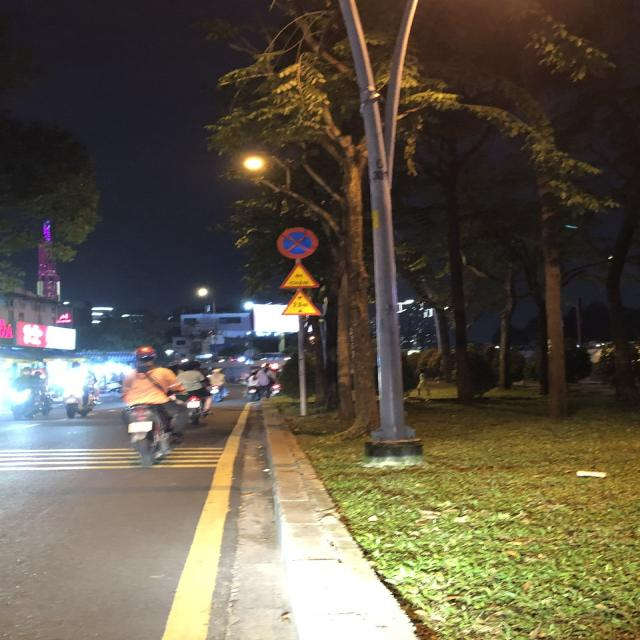Bien bao cam dung xe va do xe: (275, 225, 324, 259)
Bien bao chieu cao tinh khong thuc te: (276, 288, 326, 320)
Bien bao di cham: (271, 260, 327, 290)
